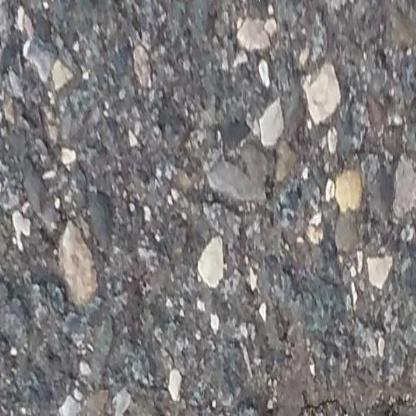Cracks: (239, 372, 416, 416)
